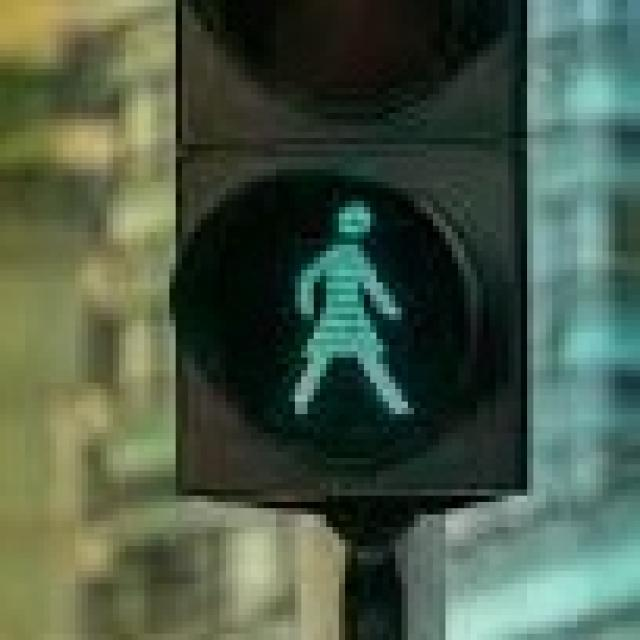green-light: (265, 183, 428, 434)
